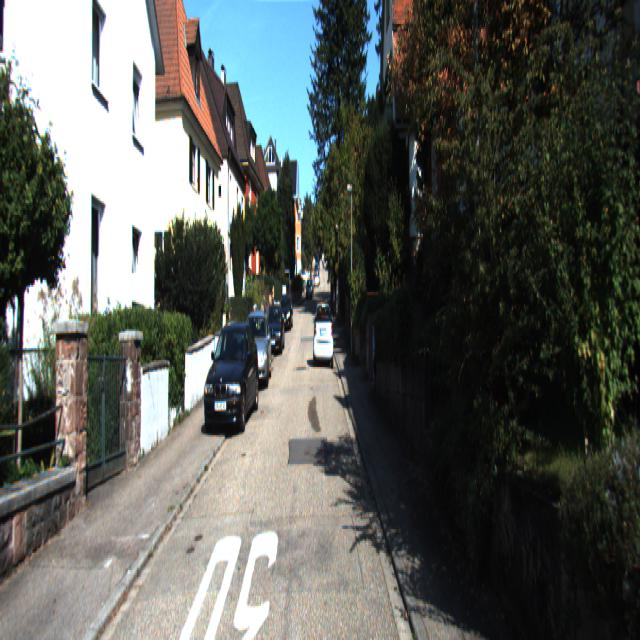Car: (201, 319, 261, 437), (241, 307, 273, 389), (313, 298, 334, 368), (264, 305, 286, 355), (279, 294, 293, 332)
